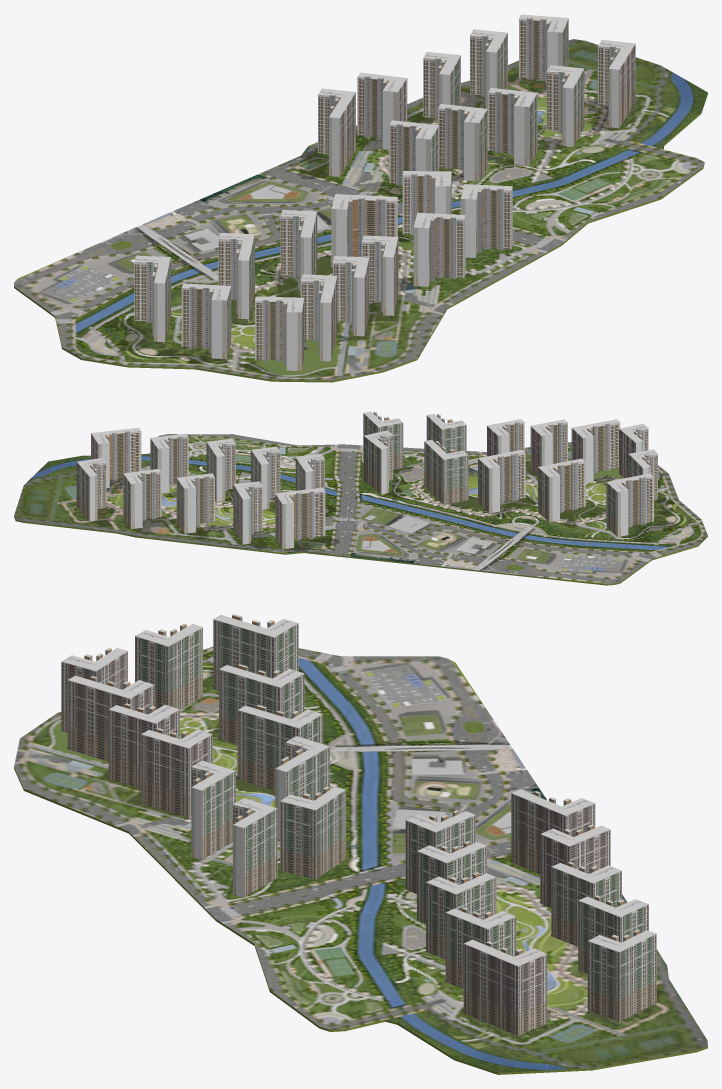
Rendered from ICJ00106_A.glb.
3 renders of one model, top to bottom at view 1: azimuth 30°, elevation 25°; view 2: azimuth 150°, elevation 25°; view 3: azimuth 270°, elevation 25°, orthographic. The views are drawn at different scales.
Parts seen in each view (by area): view 1: MainBuilding; view 2: MainBuilding; view 3: MainBuilding.
Part boxes in pixels (<box>): MainBuilding: <box>14,14,707,382</box>; MainBuilding: <box>14,411,707,585</box>; MainBuilding: <box>14,614,707,1074</box>.
Size of the model in its own units: 30743 by 2472 by 20874.
1 material, 1 textured.
